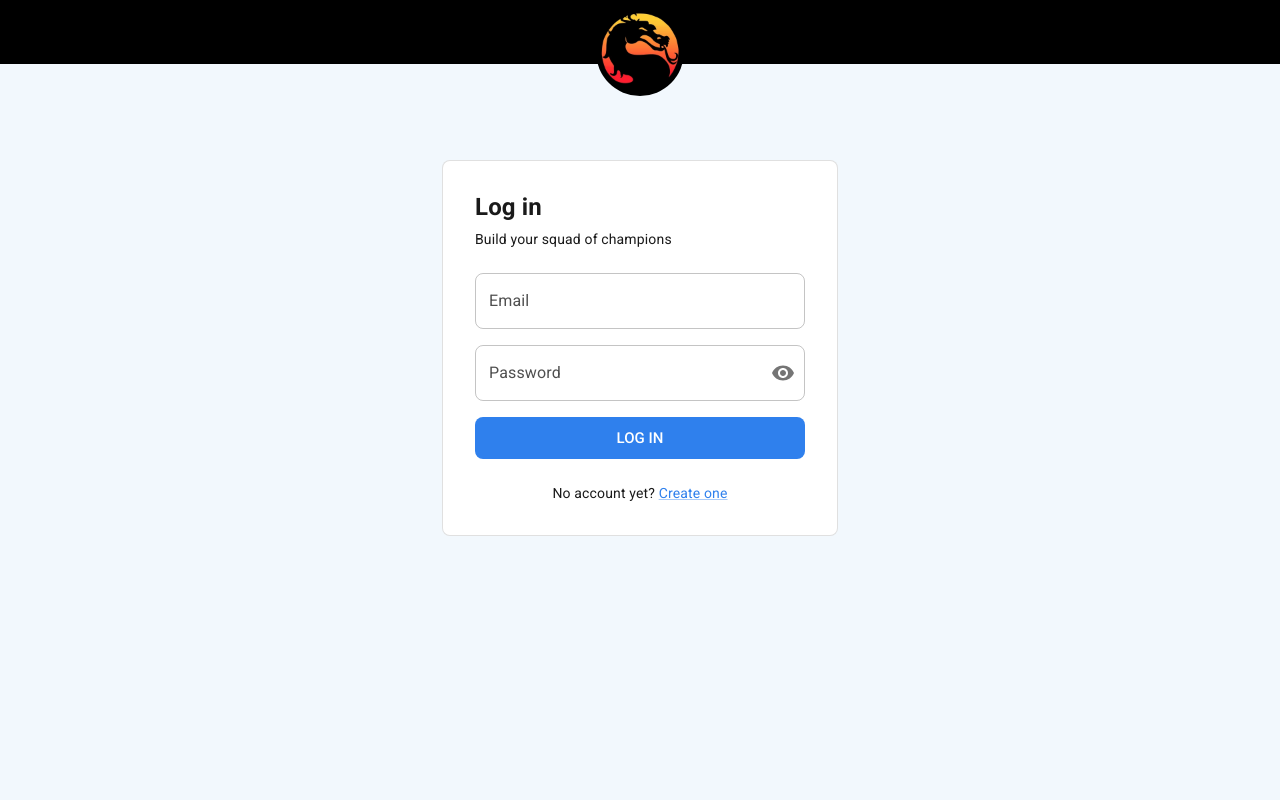
Scenario: app routes › when nobody is logged in › navigates from login to register through the link
This screenshot has width=1280, height=800.
Click the link "Create one". click: (693, 493)
box: top-left (659, 485), bottom-right (728, 501)
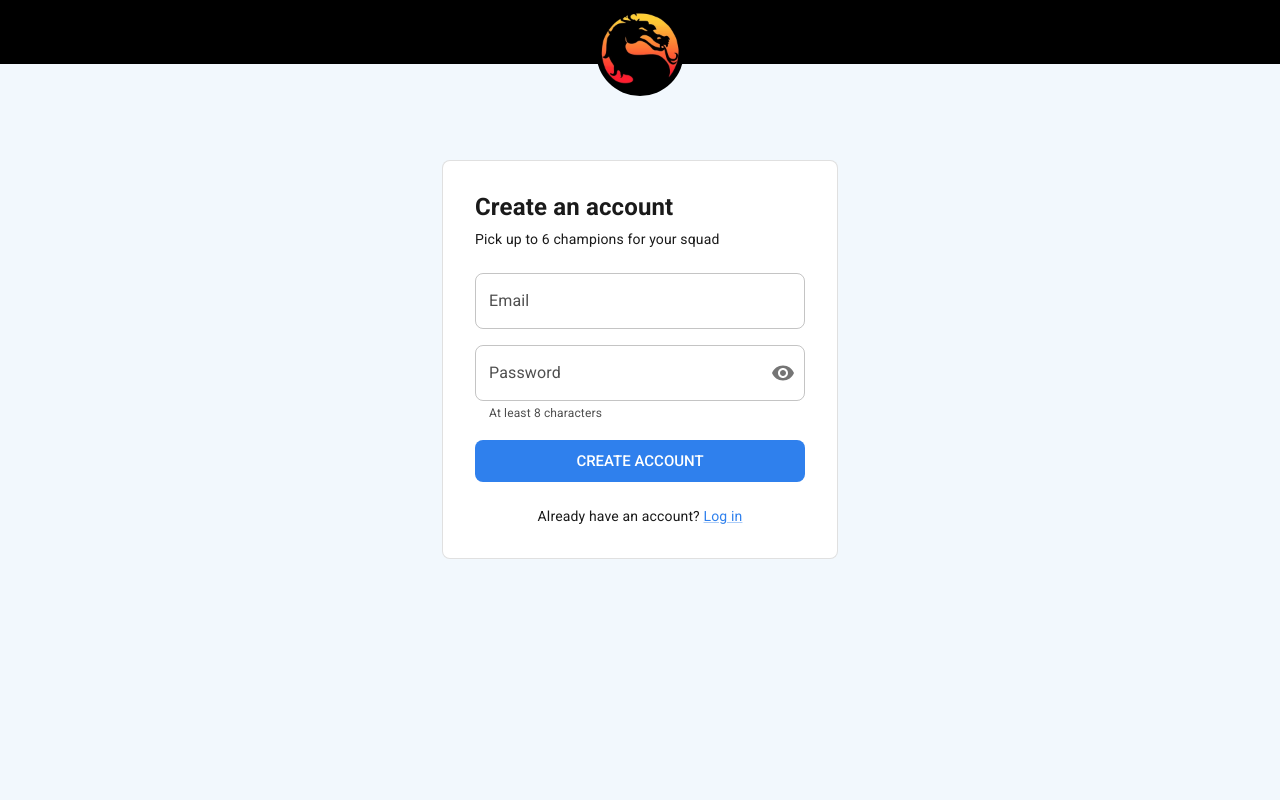
Result: the heading "Create an account" is shown at top-left (475, 193), bottom-right (673, 221)
